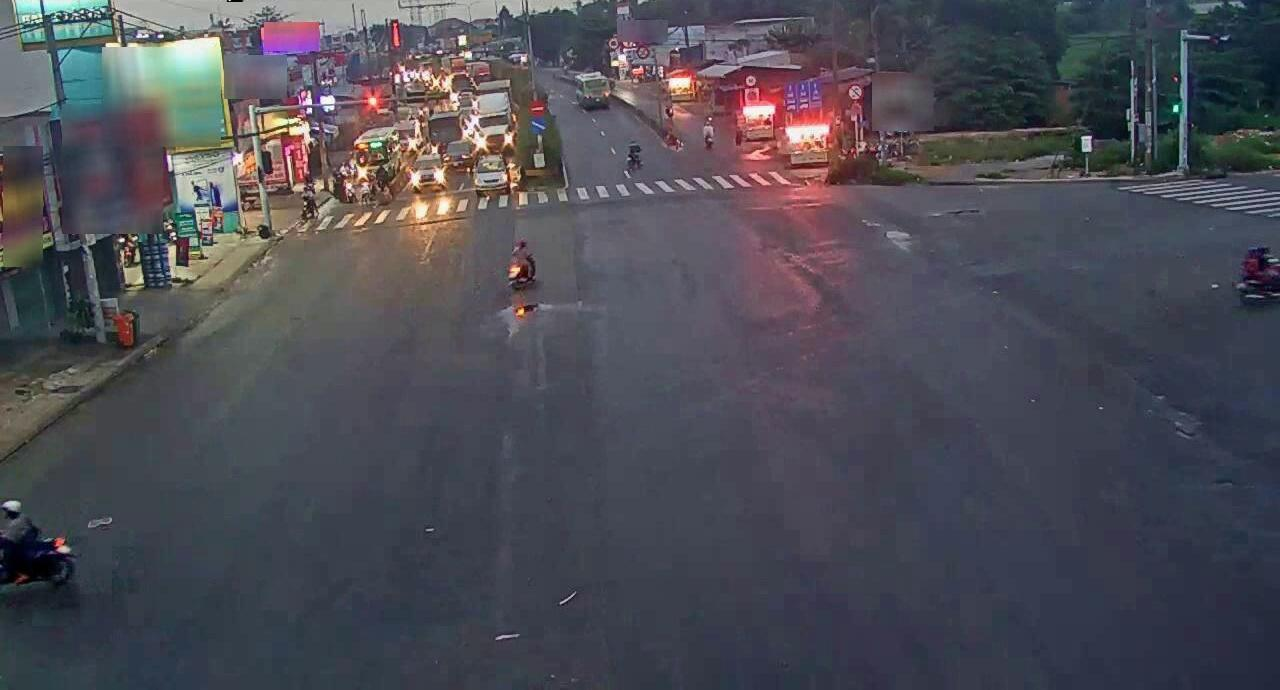xe may: (0, 490, 79, 592), (502, 236, 538, 295)
